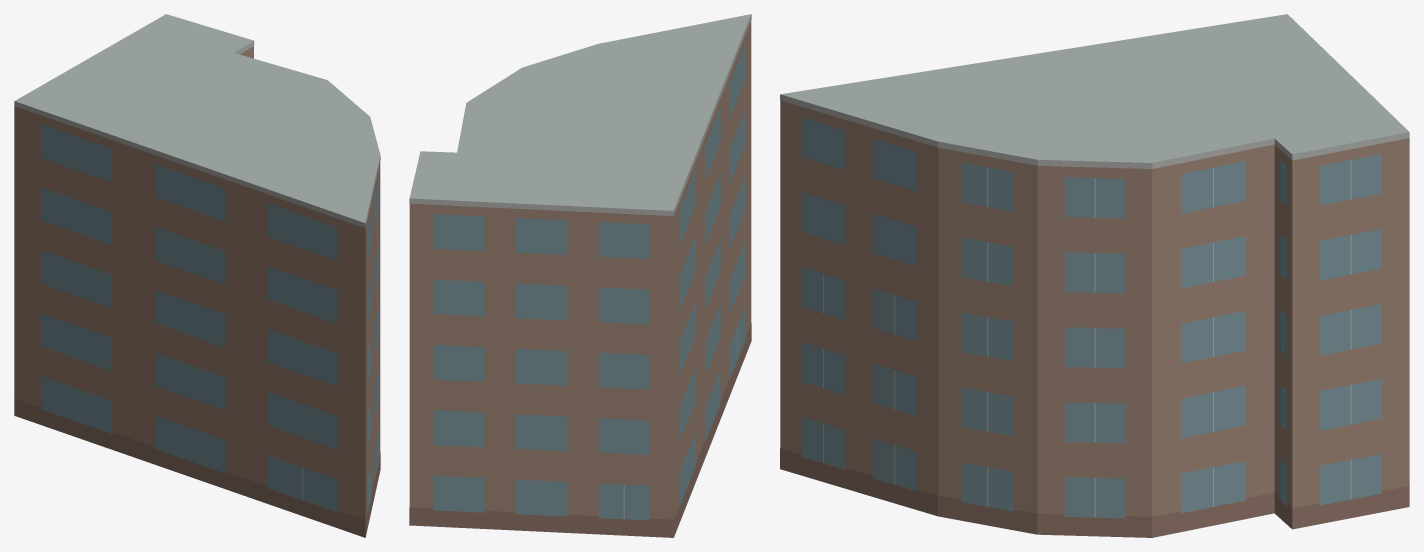
The model's file is survey-upis-32576185.glb.
3 renders of one model, left to right at view 1: azimuth 30°, elevation 25°; view 2: azimuth 150°, elevation 25°; view 3: azimuth 270°, elevation 25°, orthographic. The views are drawn at different scales.
Parts seen in each view (by area): view 1: survey-upis-32576185.tmp; view 2: survey-upis-32576185.tmp; view 3: survey-upis-32576185.tmp.
Boxes of the visible parts, x1,y1,x2,y2 form: survey-upis-32576185.tmp: [14, 14, 380, 537]; survey-upis-32576185.tmp: [409, 14, 751, 537]; survey-upis-32576185.tmp: [780, 14, 1409, 537].
Size of the model in its own units: 13.02 by 15.25 by 23.22.
